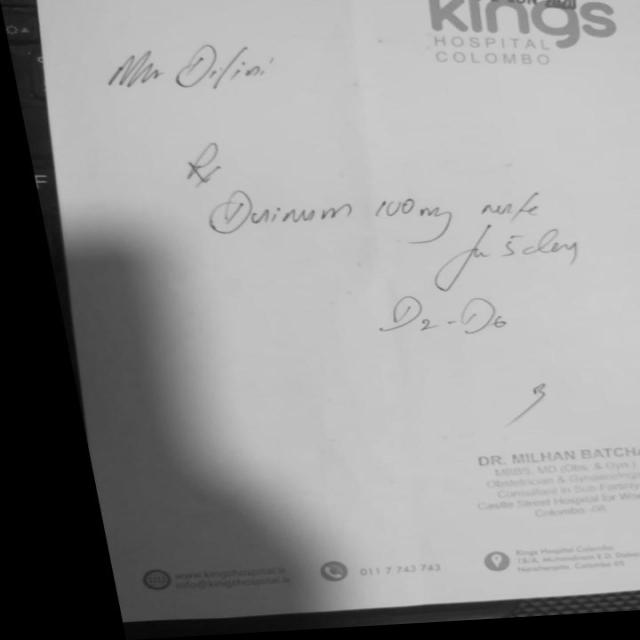Prescription: (182, 174, 570, 296)
